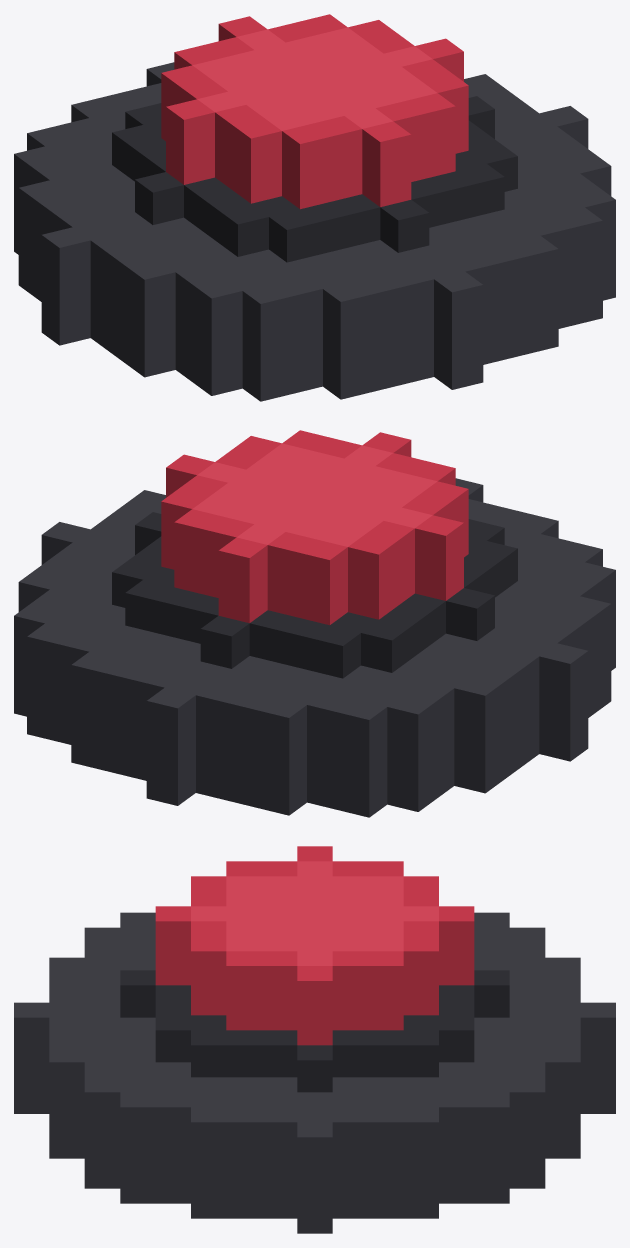
File: RoundButton.glb
3 renders of one model, top to bottom at view 1: azimuth 30°, elevation 25°; view 2: azimuth 150°, elevation 25°; view 3: azimuth 270°, elevation 25°, orthographic.
Parts seen in each view (by area): view 1: base, button; view 2: base, button; view 3: base, button.
Part boxes in pixels (x1=…): base: x1=14, y1=62, x2=615, y2=401; button: x1=161, y1=14, x2=468, y2=209; base: x1=14, y1=478, x2=615, y2=817; button: x1=161, y1=430, x2=468, y2=625; base: x1=14, y1=912, x2=615, y2=1233; button: x1=155, y1=846, x2=474, y2=1045.
Bounding box in the file's own units: 0.17 × 0.06 × 0.17.
